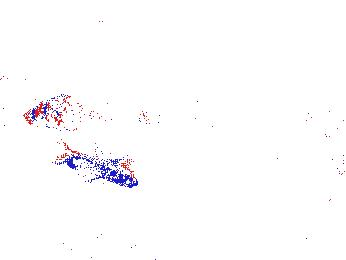X-ray fish: (29, 91, 109, 131)
red belly glassfish: (133, 107, 196, 129), (1, 71, 23, 89)
redtail glassfish: (56, 139, 140, 190), (249, 102, 318, 126)
